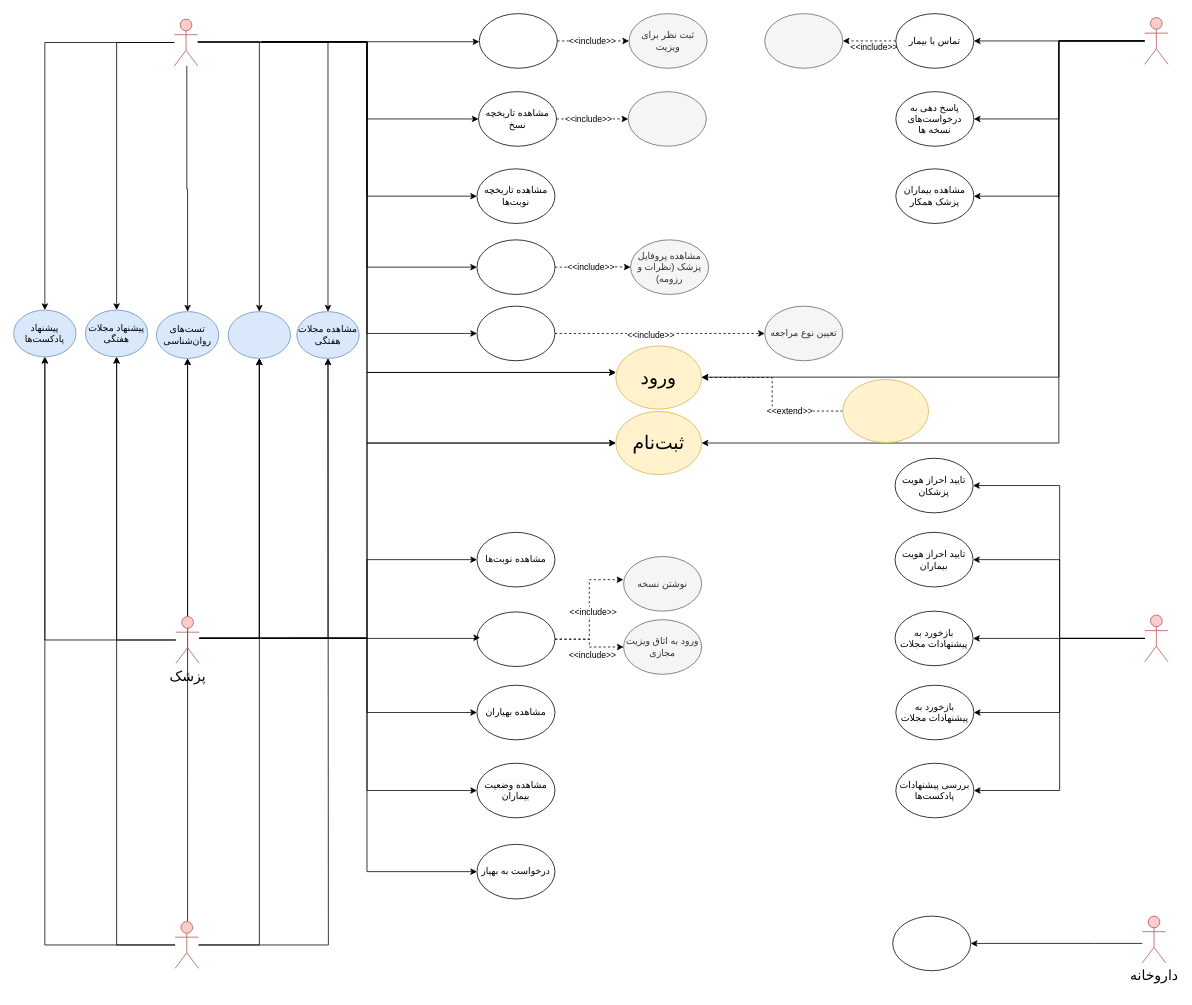
Some shapes in this 1192 by 1005 pixel diagram are drawn without their labels. Here are the shapes that lost their labels. From the top down, the centre of each, then its label:
(186,42): بیمار
(518,40): وارد شدن به اتاق مجازی
(803,40): تهیه و ثبت گزارش
(1156,40): بهیار
(667,118): استعلام‌گیری نسخ از داروخانه دلخواه
(515,266): مشاهده پزشکان
(259,334): مشاهده پادکست‌ها
(515,333): دریافت نوبت پزشک
(885,411): فراموشی رمز عبور
(515,639): ویزیت بیمار
(1156,638): ادمین
(186,944): کاربر بدون نقش
(931,943): پاسخ‌دهی به استعلامات
